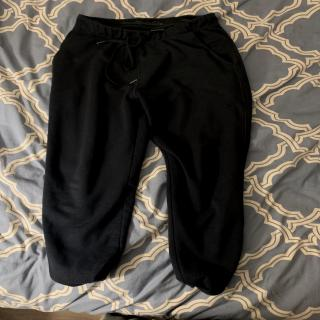Navy Sweatpants: (24, 8, 260, 296)
